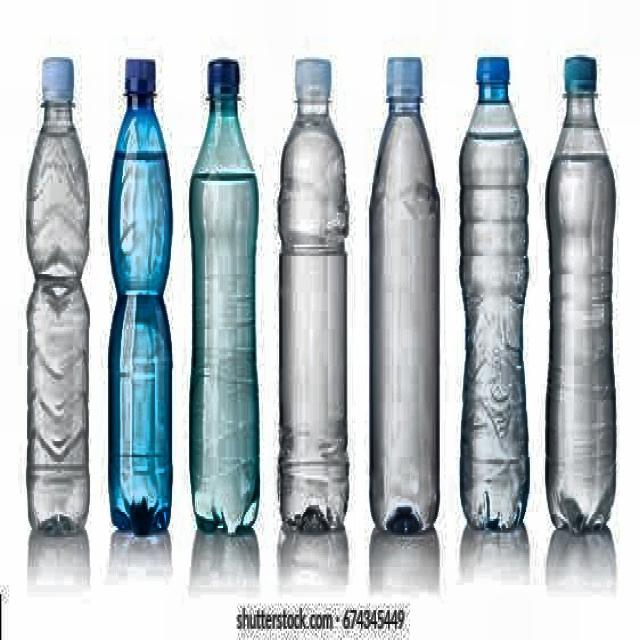Bottles: (539, 48, 621, 546), (454, 41, 533, 542), (273, 41, 352, 540), (186, 48, 264, 541), (20, 39, 95, 545), (367, 50, 442, 538), (106, 44, 176, 544)
